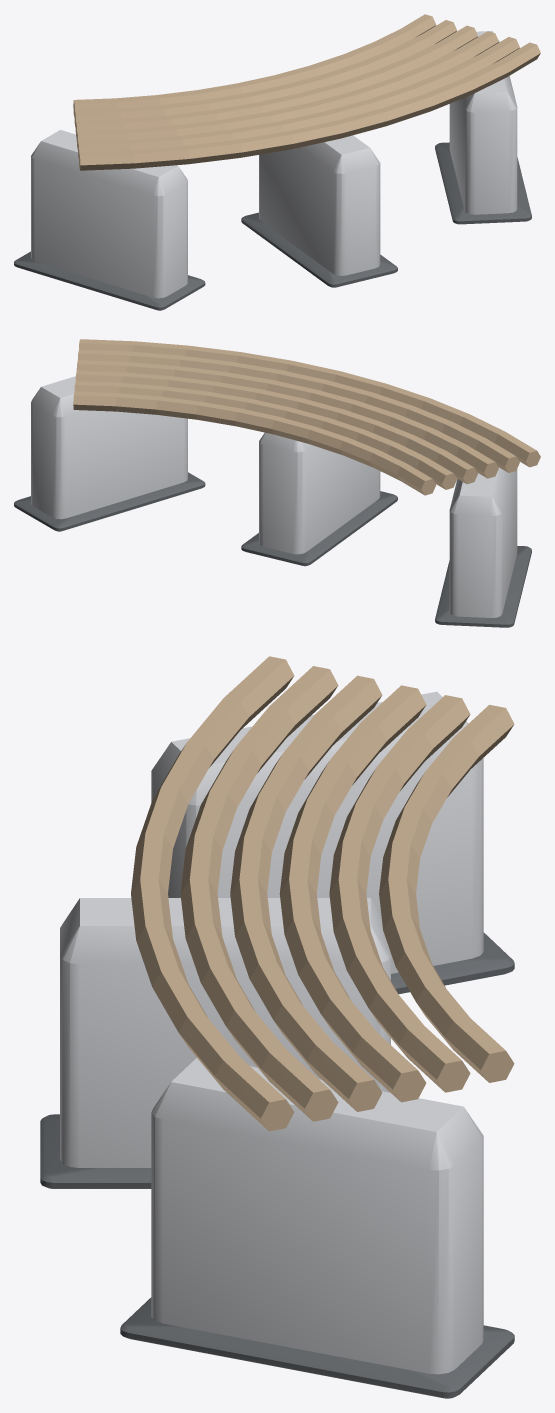
3 views of the same model, one above another, from view 1: azimuth 30°, elevation 25°; view 2: azimuth 150°, elevation 25°; view 3: azimuth 270°, elevation 25° (orthographic). The views are drawn at different scales.
Parts seen in each view (by area): view 1: curved-concourse-bench; view 2: curved-concourse-bench; view 3: curved-concourse-bench.
Boxes of the visible parts, <box> form: curved-concourse-bench: <box>14,14,540,310</box>; curved-concourse-bench: <box>14,339,540,627</box>; curved-concourse-bench: <box>40,656,514,1398</box>.
Bounding box in the file's own units: 1.74 × 0.4643 × 0.7171.
